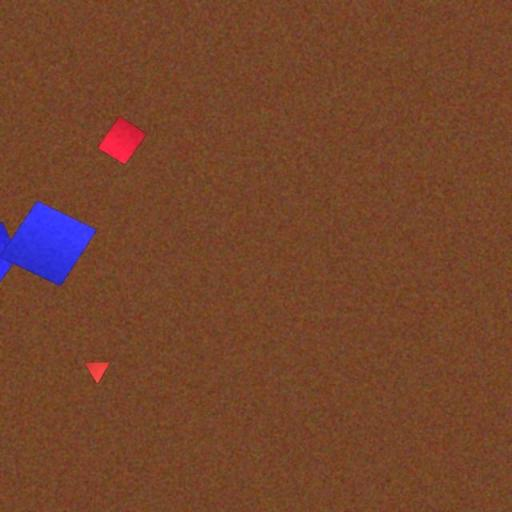BLUE_SQUARE: (0, 200, 98, 287)
RED_SQUARE: (97, 116, 147, 166)
